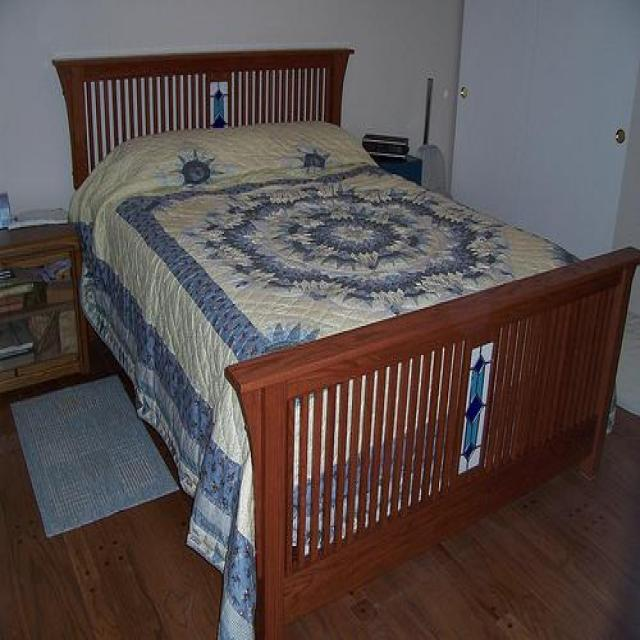bed: (50, 48, 640, 640)
